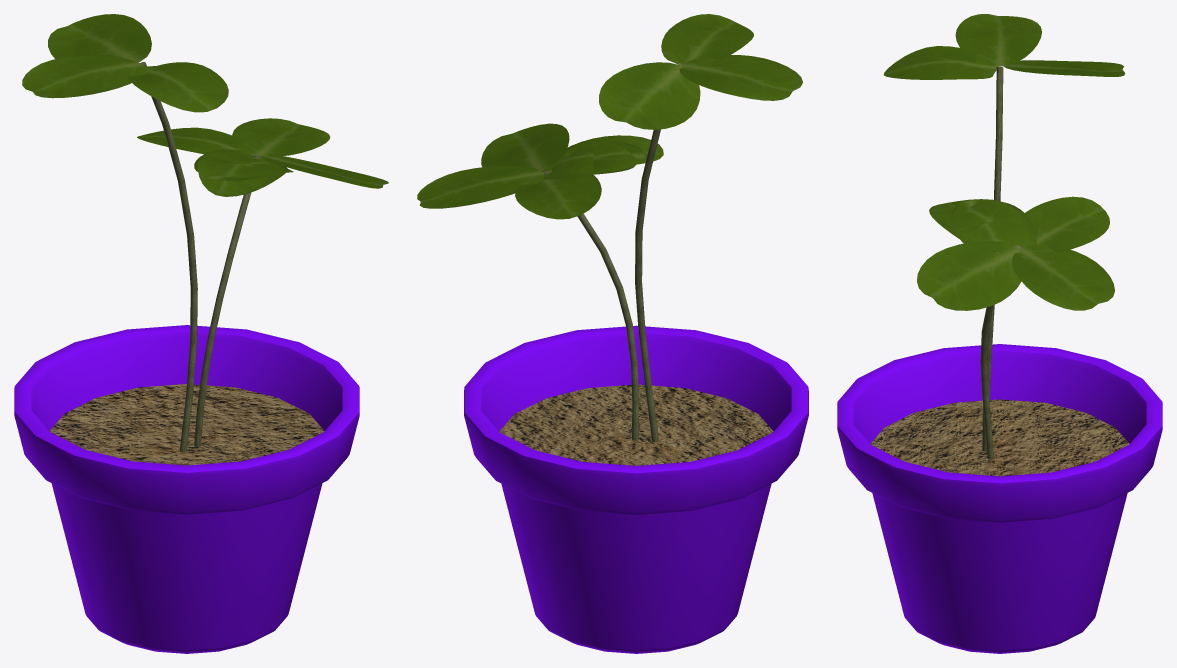
File: plant2.gltf
The picture shows the model from 3 angles, left to right: view 1: azimuth 30°, elevation 25°; view 2: azimuth 150°, elevation 25°; view 3: azimuth 270°, elevation 25°; orthographic projection. The views are drawn at different scales.
Visible parts, largest first — view 1: Cylinder001, 흙, Ellipse001, Ellipse002, Ellipse003, Line001, Ellipse006, Ellipse008, Line002, Ellipse007, Ellipse005, Ellipse004; view 2: Cylinder001, 흙, Ellipse002, Ellipse001, Ellipse006, Ellipse003, Ellipse005, Ellipse007, Line001, Ellipse008, Line002, Ellipse004; view 3: Cylinder001, 흙, Ellipse005, Ellipse006, Ellipse001, Ellipse007, Ellipse003, Ellipse008, Ellipse004, Ellipse002, Line001, Line002.
Boxes of the visible parts, x1,y1,x2,y2 form: Cylinder001: (14, 325, 359, 653); 흙: (49, 384, 324, 465); Ellipse001: (22, 55, 146, 98); Ellipse002: (48, 14, 151, 62); Ellipse003: (127, 62, 228, 112); Line001: (140, 62, 197, 452); Ellipse006: (232, 118, 330, 156); Ellipse008: (198, 156, 287, 196); Line002: (194, 155, 261, 446); Ellipse007: (137, 127, 257, 155); Ellipse005: (261, 155, 388, 188); Ellipse004: (194, 149, 293, 180); Cylinder001: (464, 325, 808, 653); 흙: (499, 384, 773, 465); Ellipse002: (599, 62, 700, 129); Ellipse001: (679, 55, 802, 100); Ellipse006: (417, 165, 544, 208); Ellipse003: (661, 14, 753, 63); Ellipse005: (481, 123, 569, 171); Ellipse007: (515, 174, 601, 219); Line001: (635, 63, 682, 441); Ellipse008: (545, 135, 663, 174); Line002: (543, 170, 639, 440); Ellipse004: (542, 140, 644, 179); Cylinder001: (837, 344, 1162, 653); 흙: (870, 399, 1129, 476); Ellipse005: (917, 241, 1021, 310); Ellipse006: (1012, 244, 1114, 310); Ellipse001: (955, 14, 1041, 66); Ellipse007: (1025, 196, 1109, 252); Ellipse003: (883, 46, 996, 79); Ellipse008: (929, 199, 1019, 247); Ellipse004: (951, 200, 1036, 247); Ellipse002: (1003, 60, 1125, 76); Line001: (982, 67, 1003, 451); Line002: (980, 246, 1022, 459).
Size of the model in its own units: 0.4671 by 0.7612 by 0.4174.
4 materials, 3 textured.
